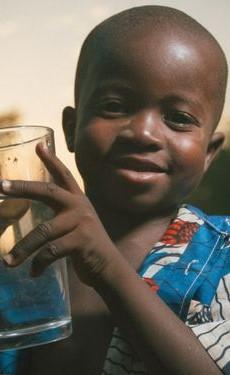Healthy: (80, 27, 230, 215)
